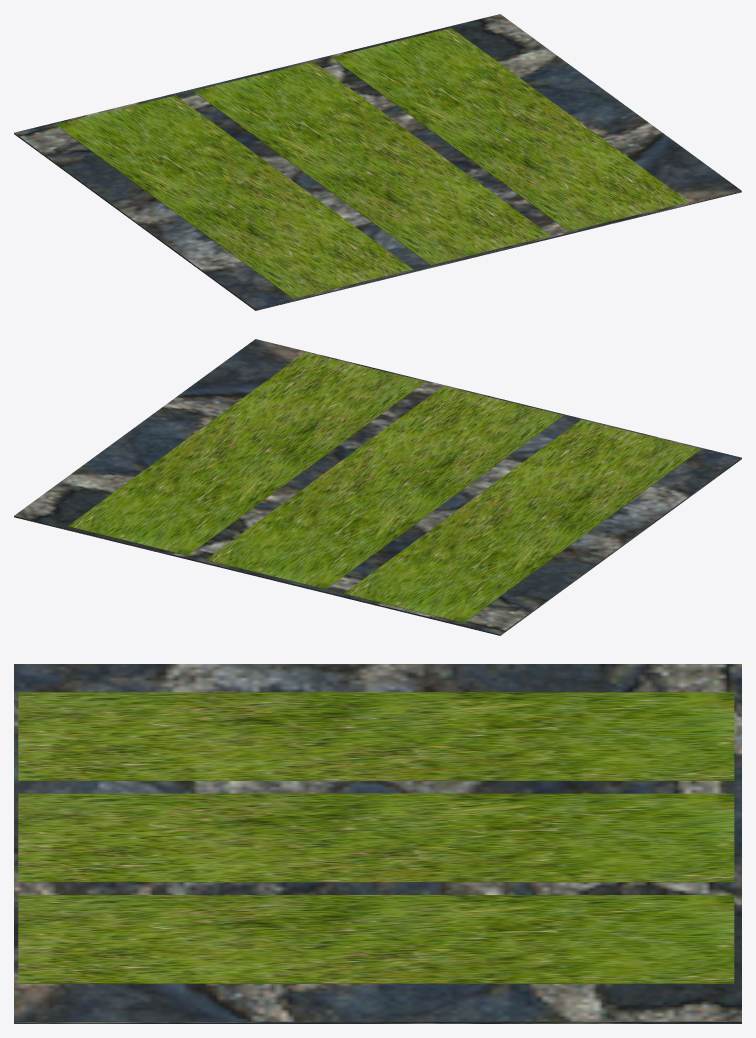
File: foundation5.gltf
3 views of the same model, one above another, from view 1: azimuth 30°, elevation 25°; view 2: azimuth 150°, elevation 25°; view 3: azimuth 270°, elevation 25° (orthographic). The views are drawn at different scales.
Parts seen in each view (by area): view 1: Cube, Cube.003, Cube.002, Cube.001; view 2: Cube, Cube.001, Cube.003, Cube.002; view 3: Cube, Cube.001, Cube.002, Cube.003.
Part boxes in pixels (x1,y1,x2,y2): Cube: (14,14,741,310); Cube.003: (55,95,412,298); Cube.002: (331,28,688,231); Cube.001: (193,61,550,265); Cube: (14,339,741,635); Cube.001: (206,386,563,589); Cube.003: (343,419,701,622); Cube.002: (68,352,425,555); Cube: (14,664,741,1023); Cube.001: (18,793,734,882); Cube.002: (18,895,734,983); Cube.003: (18,692,734,780).
Size of the model in its own units: 163 by 0.9254 by 140.
4 materials, 4 textured.
